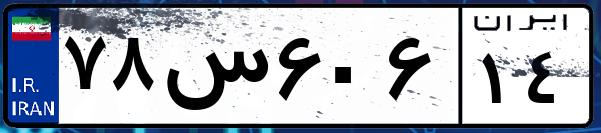0: (330, 28, 385, 110)
1: (475, 38, 525, 113)
4: (525, 38, 570, 115)
6: (270, 28, 330, 110), (385, 28, 445, 110)
7: (57, 26, 110, 100)
8: (110, 28, 158, 98)
س: (158, 20, 270, 120)
